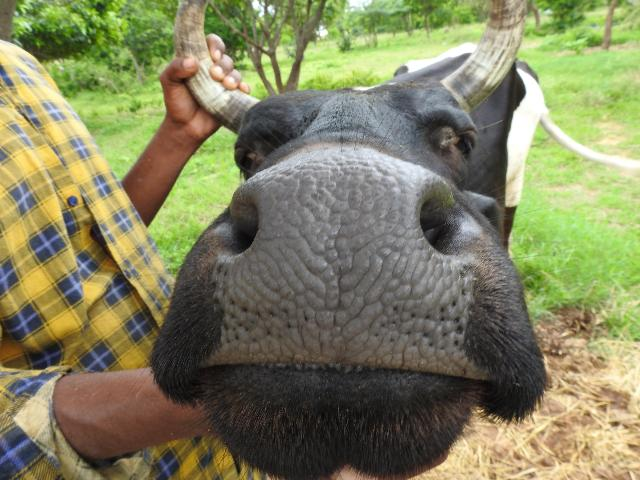Muzzle: (255, 168, 440, 364)
